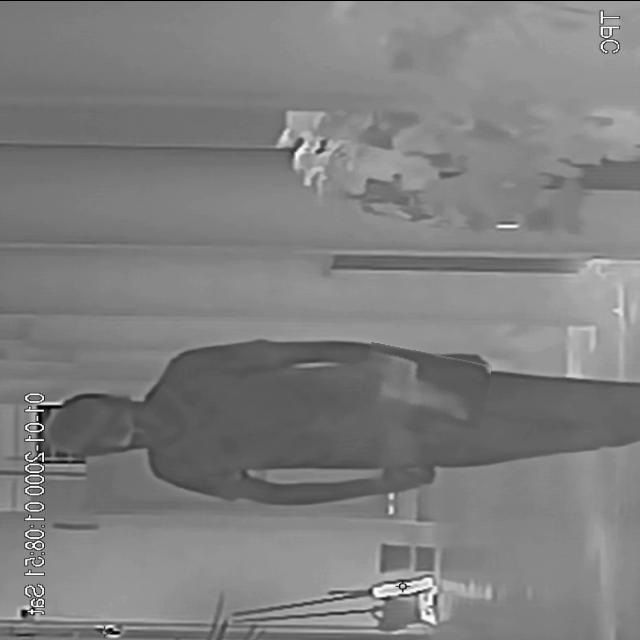Weapon: (359, 347, 489, 438)
